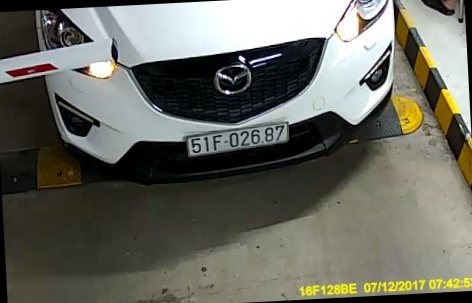plate: (180, 124, 294, 160)
